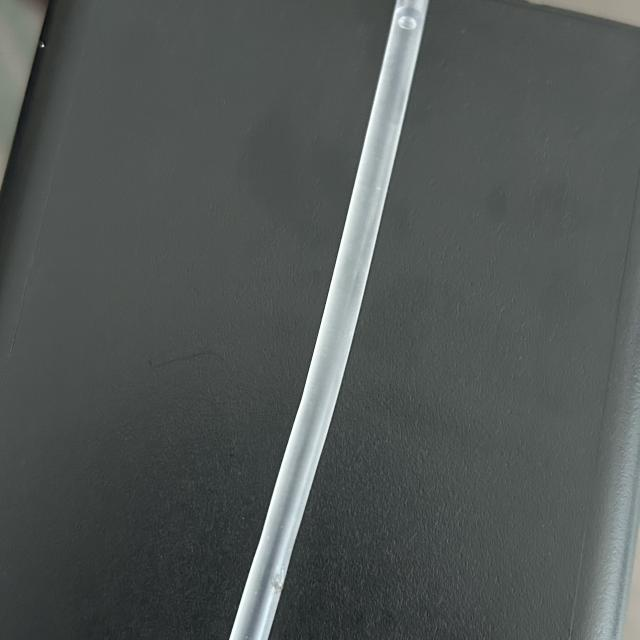bubble: (388, 10, 423, 40)
